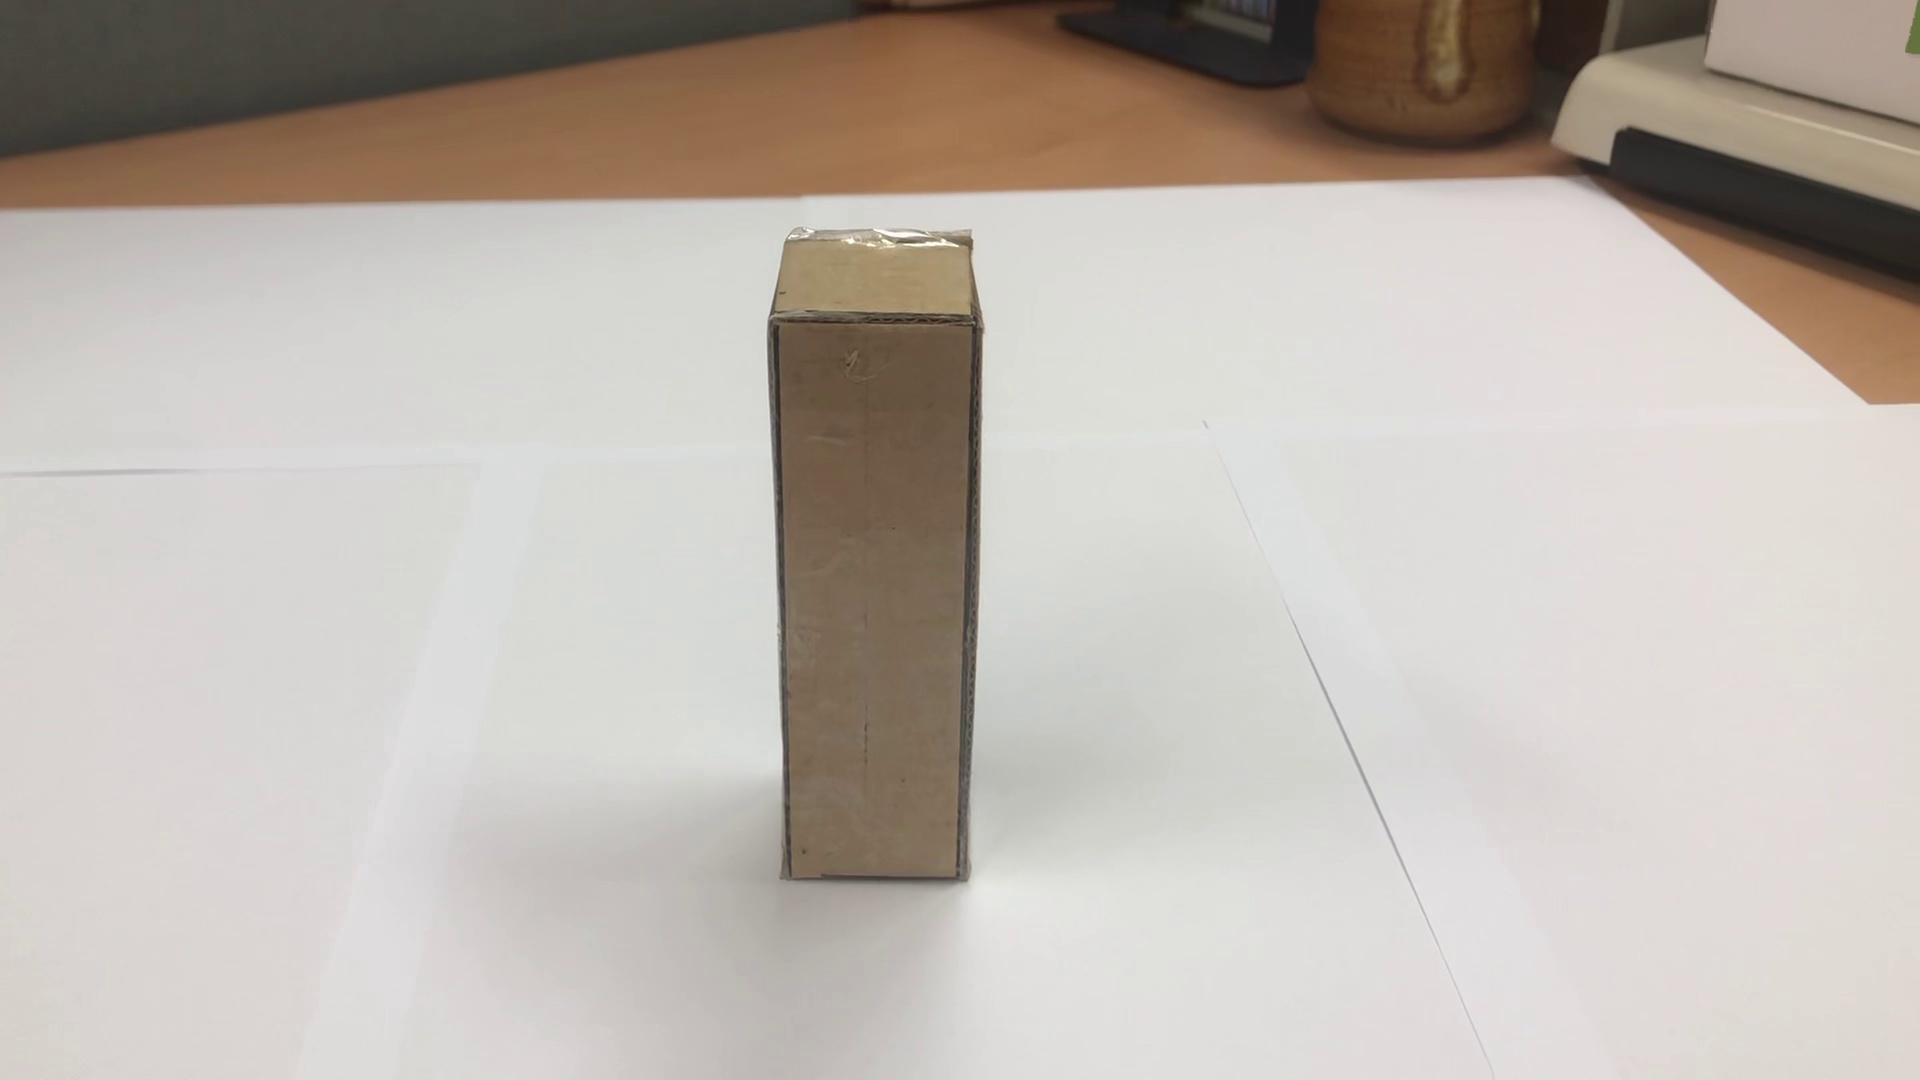box: (735, 214, 1018, 889)
